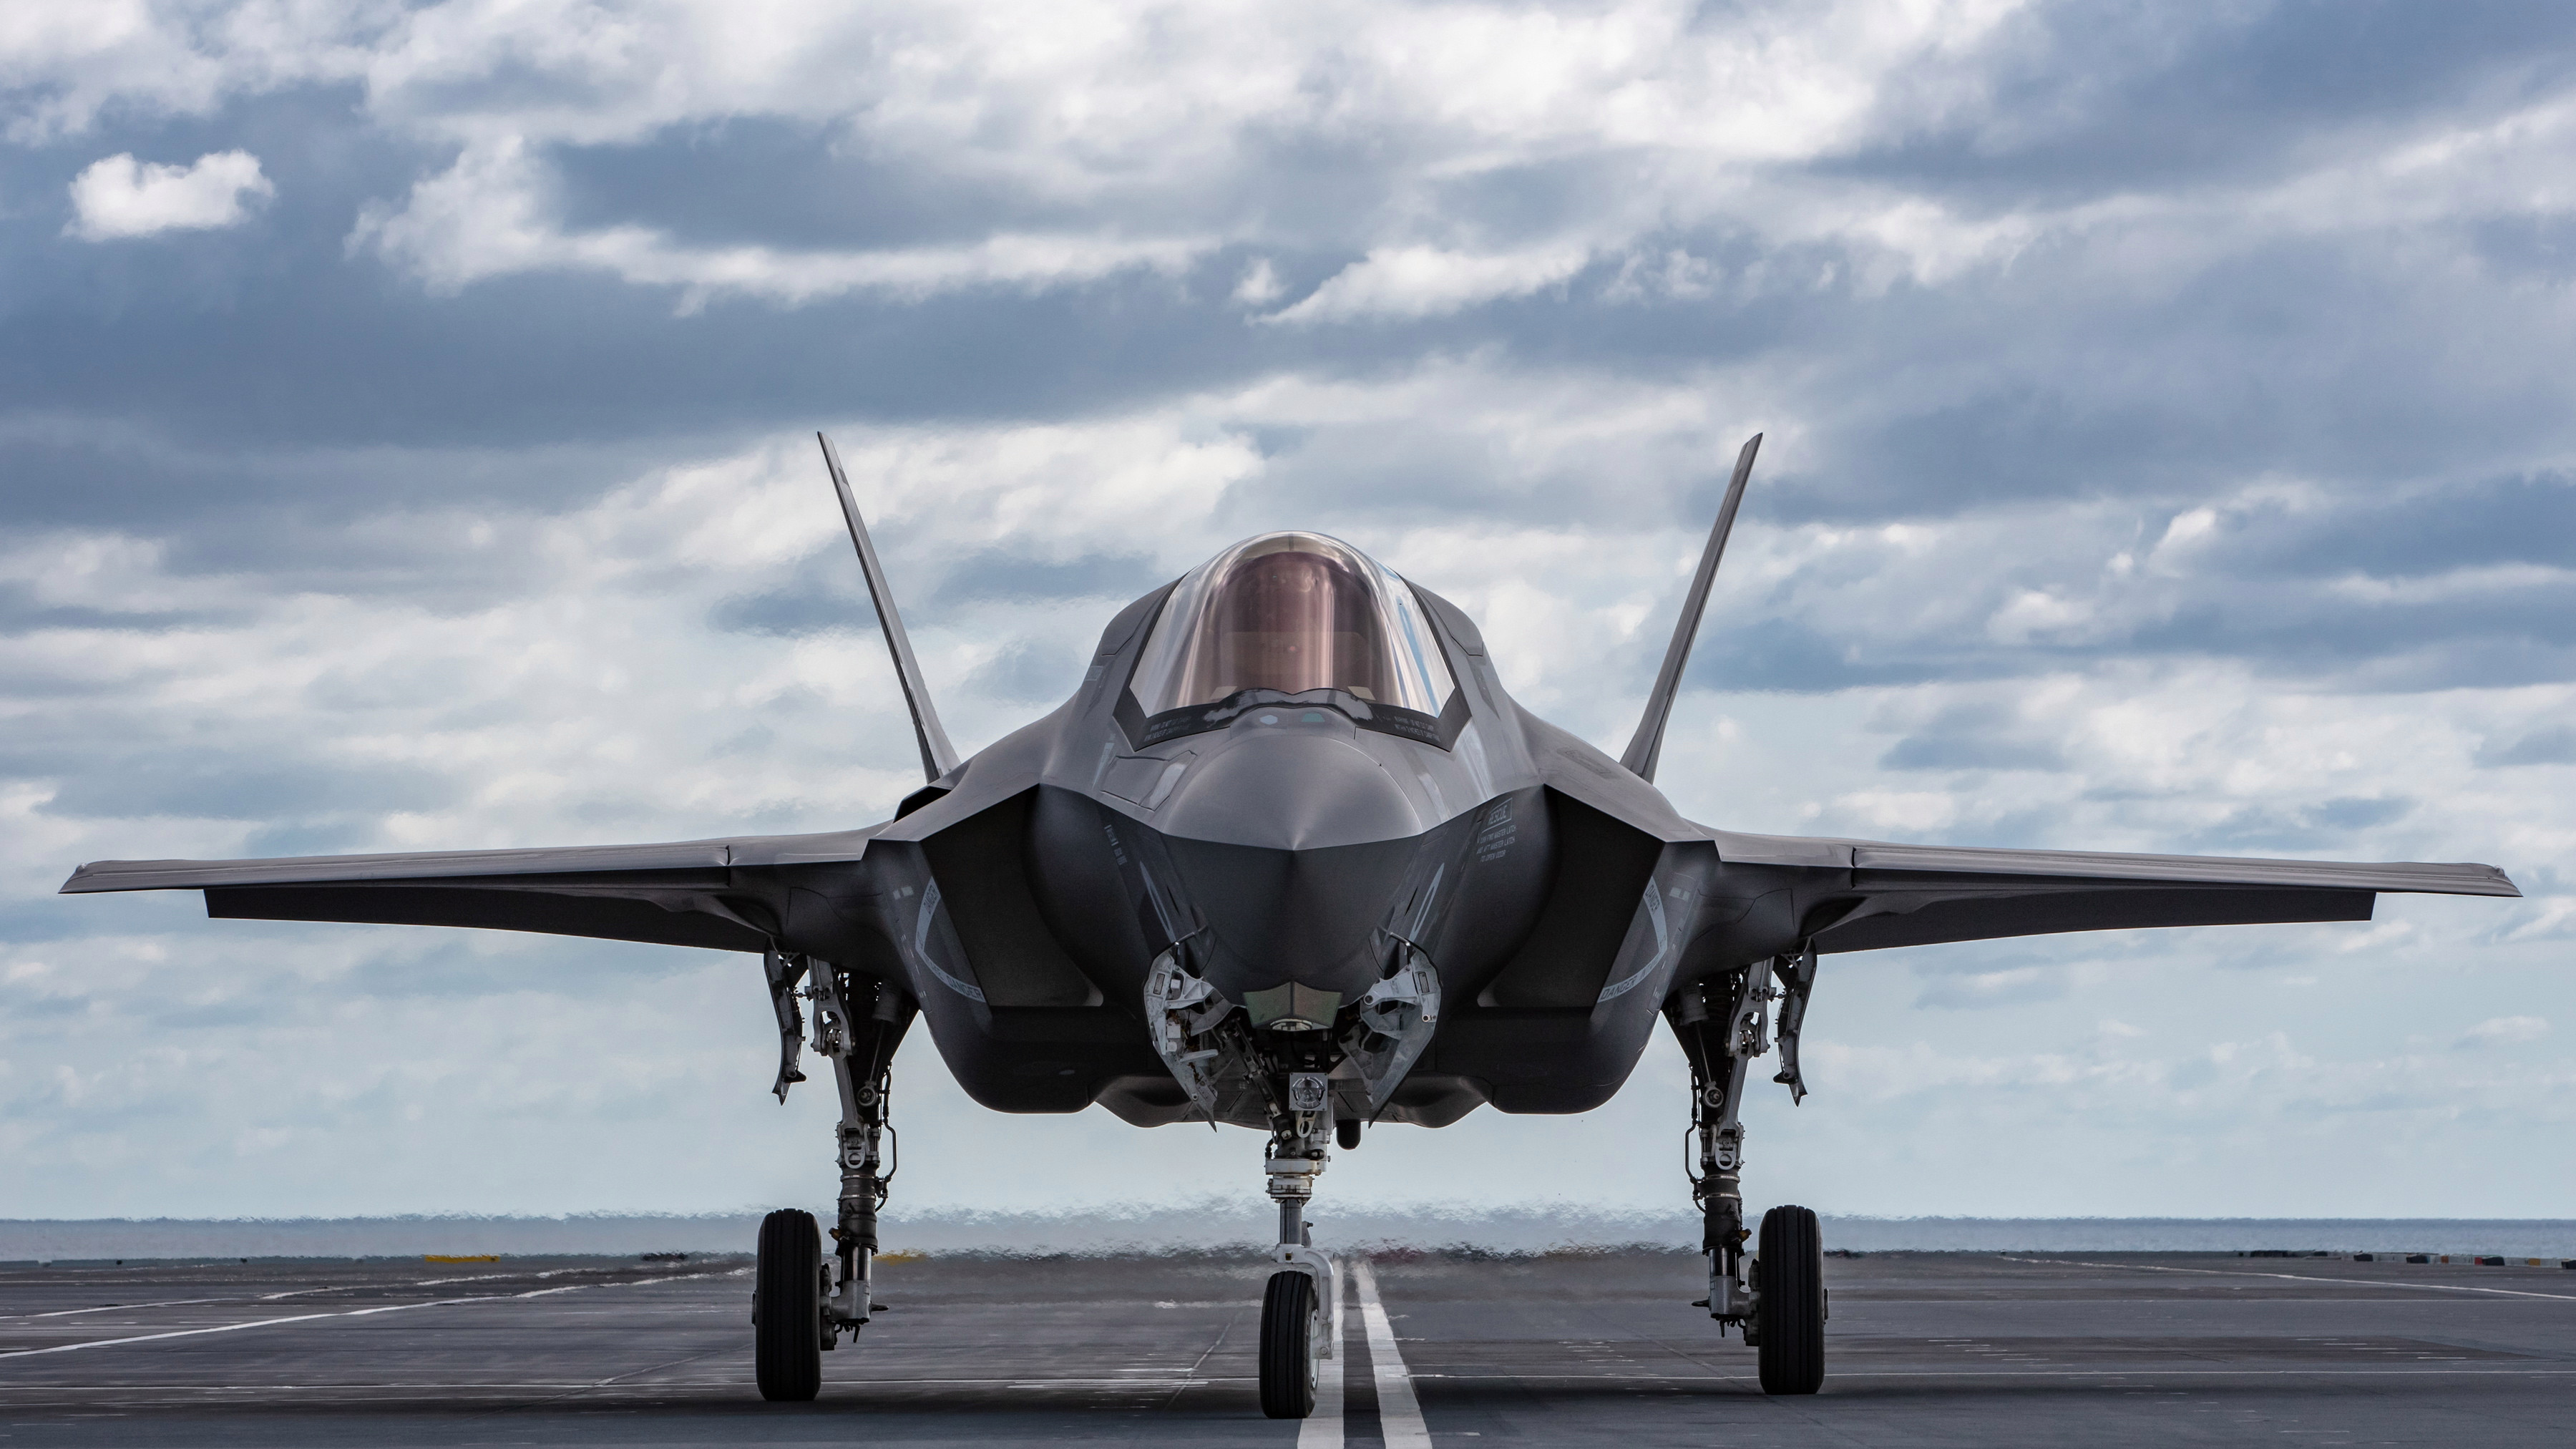F-35 Lightning: (37, 280, 2539, 1421)
